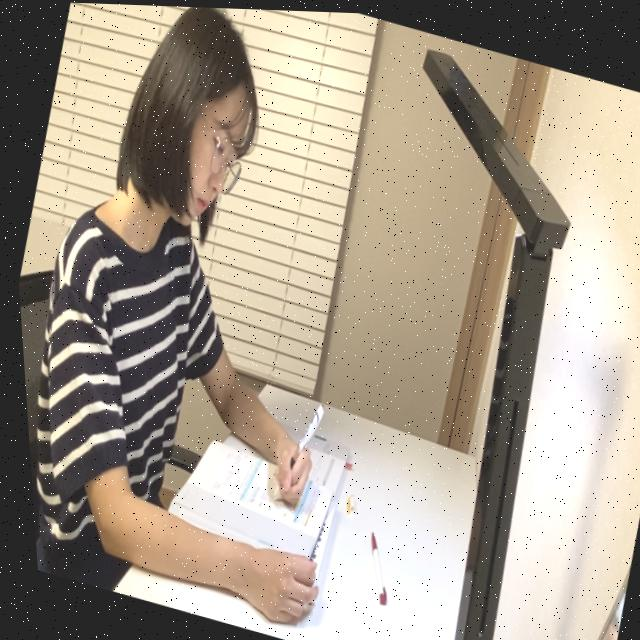studying-person: (0, 0, 462, 640)
